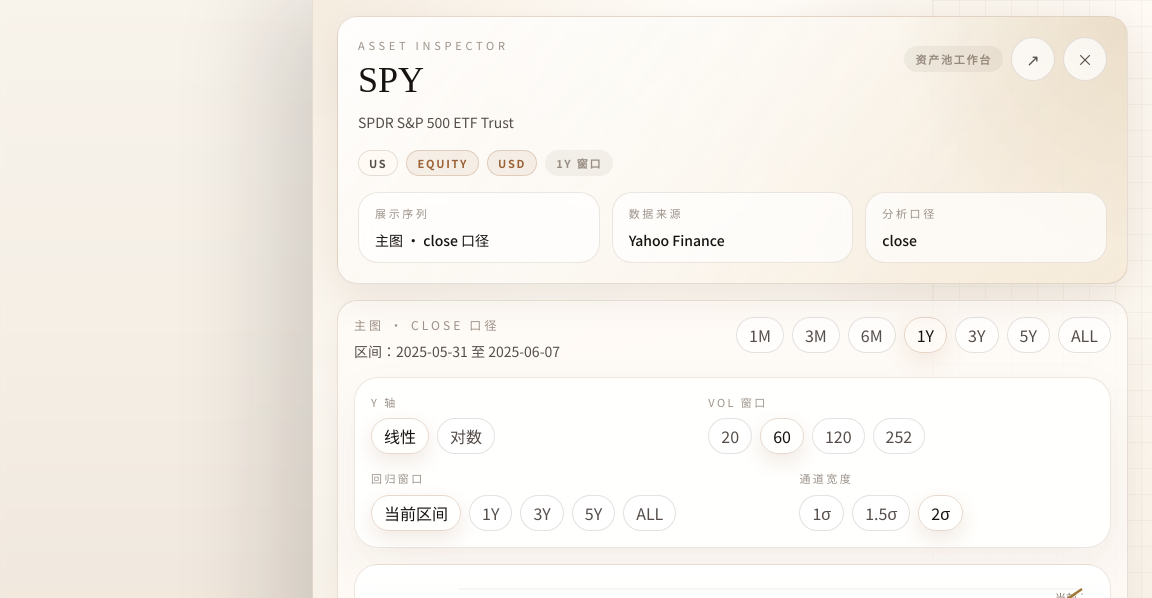
Test: AssetDetailPanel › renders regression channel lines in log mode when regression is available
This screenshot has width=1152, height=598.
Click the button with test id "asset-detail-yscale-log" at (466, 436), box [437,418,495,454]
(page scrolled)
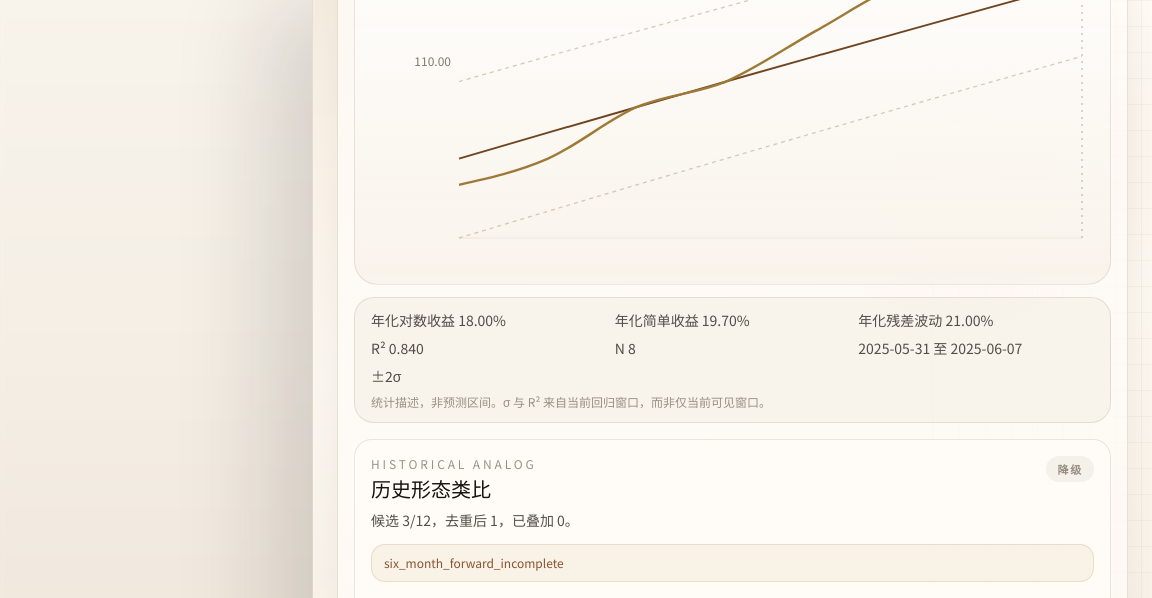
Expected: the element with test id "asset-detail-main-chart" is shown, [354,0,1111,284]
Result: the element with test id "asset-detail-regression-strip" is shown at [354,296,1111,422]
